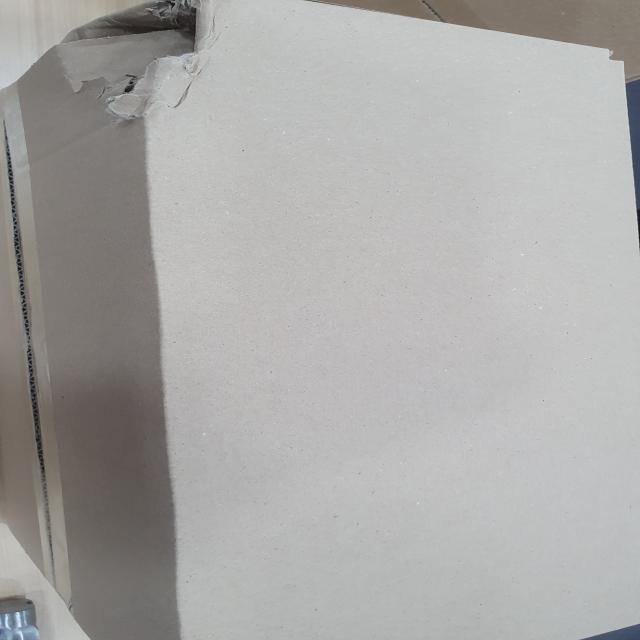hole: (55, 0, 224, 107)
